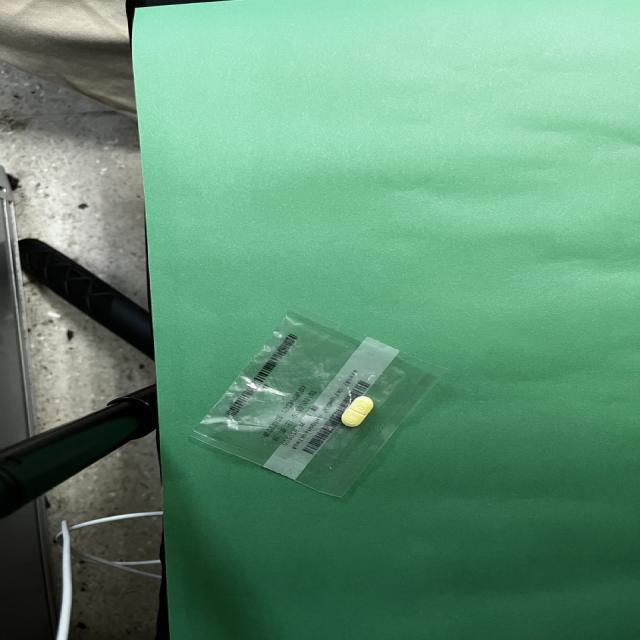Other Objects: (192, 313, 444, 498)
